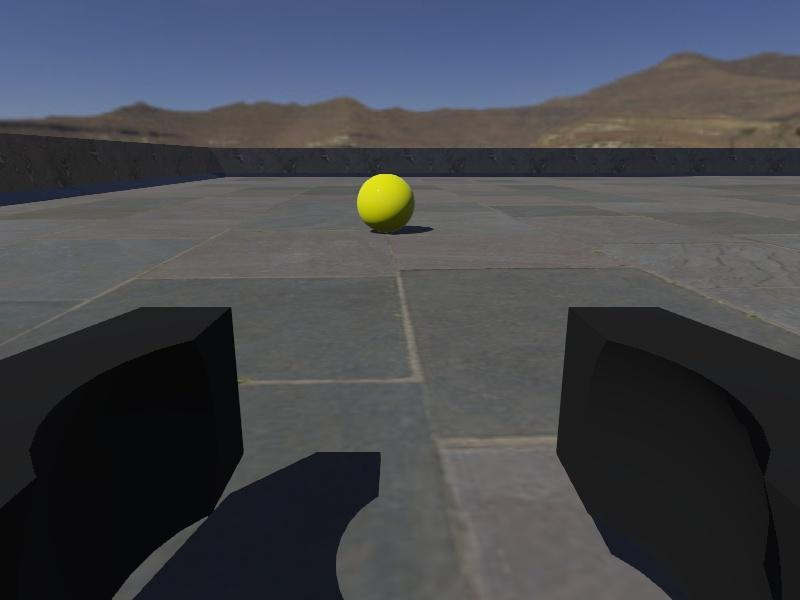yellow ball: (357, 172, 416, 232)
